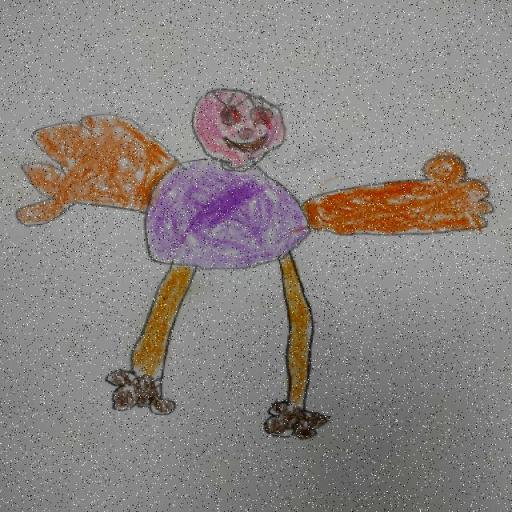person: (16, 78, 498, 476)
